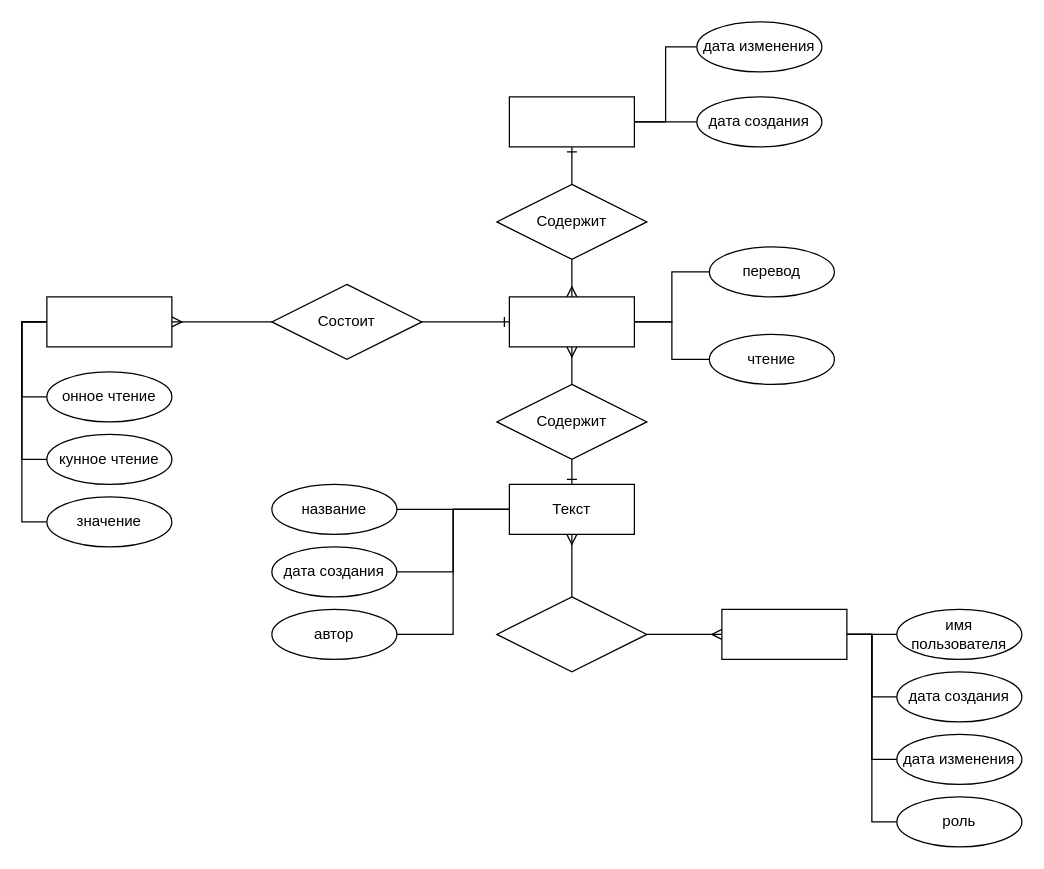
Image size: 1044x869. Some labels were removed from this diagram. The shapes that lost their labels are listed below. From the top down, each one's centre as x and y in pixels, then its label:
At (571,121): "Словарь".
At (109,321): "Иероглиф".
At (571,321): "Слово".
At (571,634): "Читает".
At (784,633): "Пользователь".
